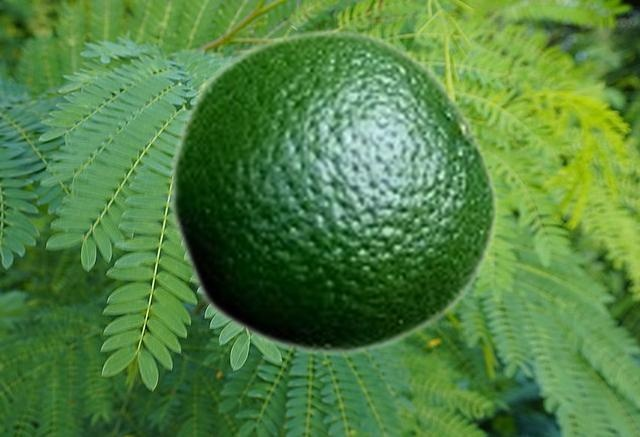calamansi: (167, 27, 499, 357)
